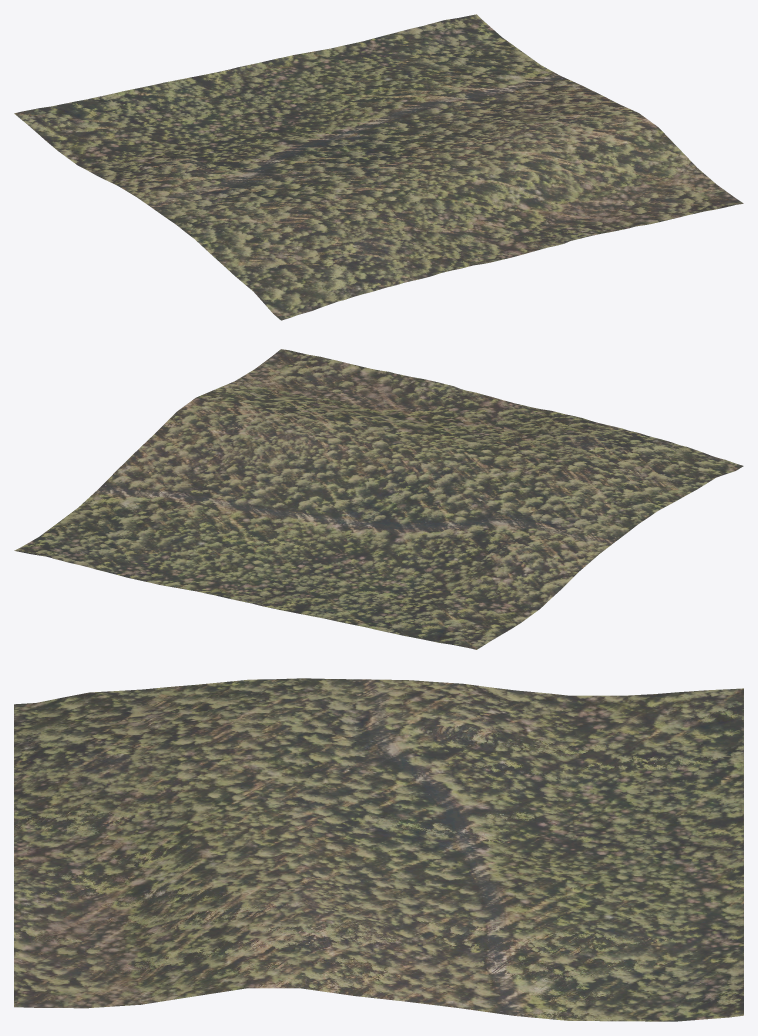
File: CM_Terrain_24490254_6822660.fbx
3 renders of one model, top to bottom at view 1: azimuth 30°, elevation 25°; view 2: azimuth 150°, elevation 25°; view 3: azimuth 270°, elevation 25°, orthographic. The views are drawn at different scales.
Parts seen in each view (by area): view 1: CM_Terrain_24490254_6822660_LOD0; view 2: CM_Terrain_24490254_6822660_LOD0; view 3: CM_Terrain_24490254_6822660_LOD0.
Part boxes in pixels (x1,y1,x2,y2): CM_Terrain_24490254_6822660_LOD0: (14,14,743,320); CM_Terrain_24490254_6822660_LOD0: (14,349,743,649); CM_Terrain_24490254_6822660_LOD0: (14,678,743,1021).
Size of what is drawn, in the model's own units: 205 by 13.49 by 205.
